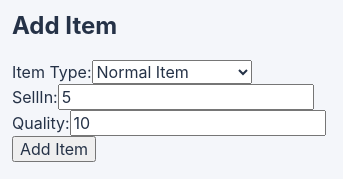
sets Sulfuras quality to 80
Later steps or results of the test are not shown.
Select "Sulfuras" in the dropdown labelled "Item Type:". click: (172,72)
box: [92,60,252,84]
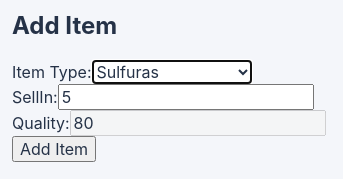
Expected: the number field labelled "Quality:" holds "80", [70,110,326,136]
Expected: the number field labelled "Quality:" is disabled, [70,110,326,136]
